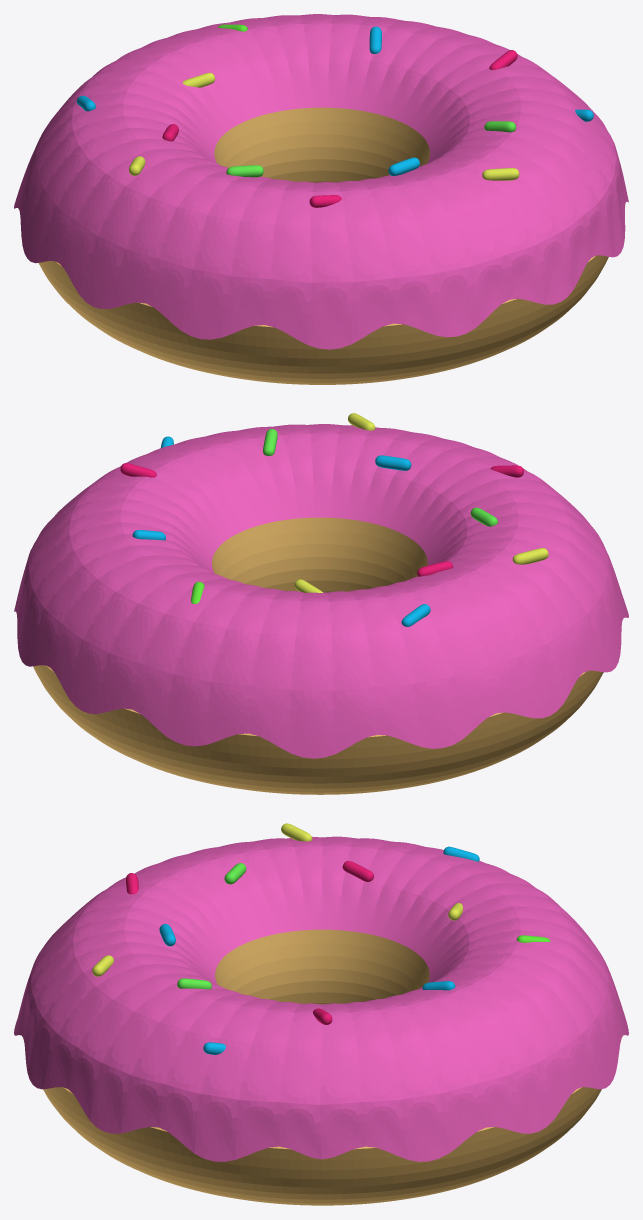
Rendered from dona.fbx.
3 views of the same model, one above another, from view 1: azimuth 30°, elevation 25°; view 2: azimuth 150°, elevation 25°; view 3: azimuth 270°, elevation 25° (orthographic).
Visible parts, largest first — view 1: Torus.001, Torus; view 2: Torus.001, Torus; view 3: Torus.001, Torus.
Boxes of the visible parts, box(x1,y1,x2,y2) form: Torus.001: box(14, 14, 628, 349); Torus: box(38, 107, 625, 384); Torus.001: box(14, 424, 628, 758); Torus: box(16, 517, 603, 794); Torus.001: box(14, 836, 628, 1161); Torus: box(23, 929, 621, 1205).
Bounding box in the file's own units: 169 × 58.72 × 171.
